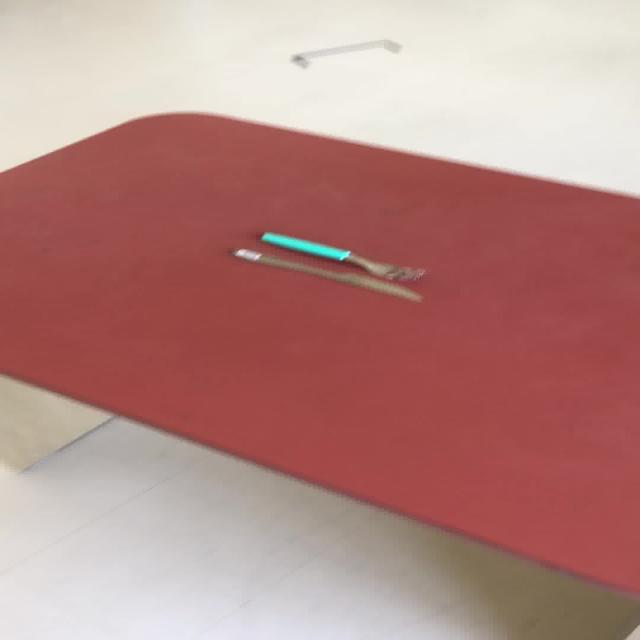fork: (257, 230, 426, 282)
knife fork: (230, 246, 423, 303)
